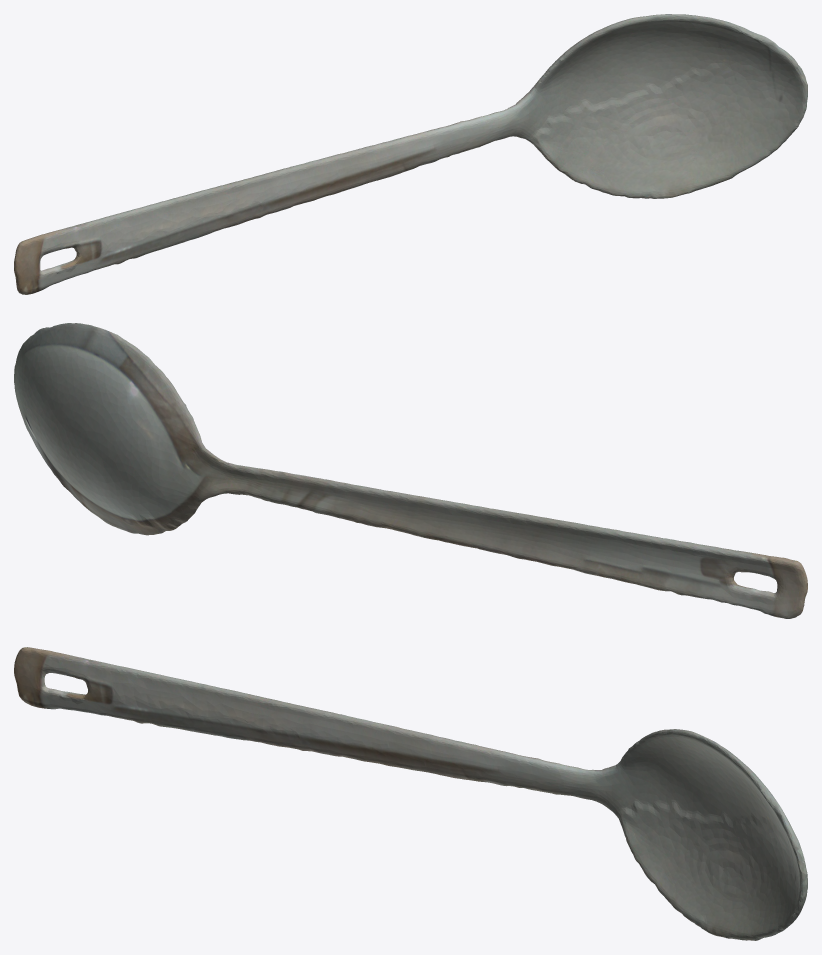
The picture shows the model from 3 angles, top to bottom: view 1: azimuth 30°, elevation 25°; view 2: azimuth 150°, elevation 25°; view 3: azimuth 330°, elevation 25°; orthographic projection. The views are drawn at different scales.
Visible parts, largest first — view 1: model.obj; view 2: model.obj; view 3: model.obj.
Part boxes in pixels (<box>): model.obj: <box>14,14,807,294</box>; model.obj: <box>14,323,807,618</box>; model.obj: <box>14,647,807,940</box>.
Size of the model in its own units: 1 by 0.2268 by 0.1197.
1 material, 1 textured.
